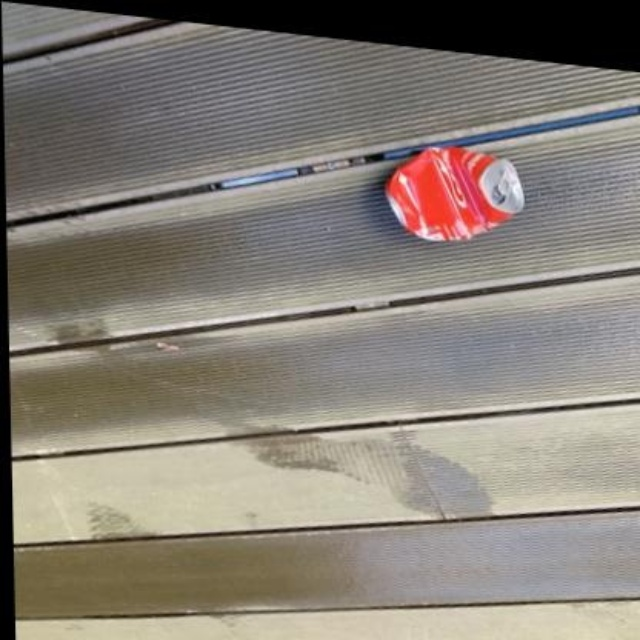trash: (386, 148, 523, 240)
